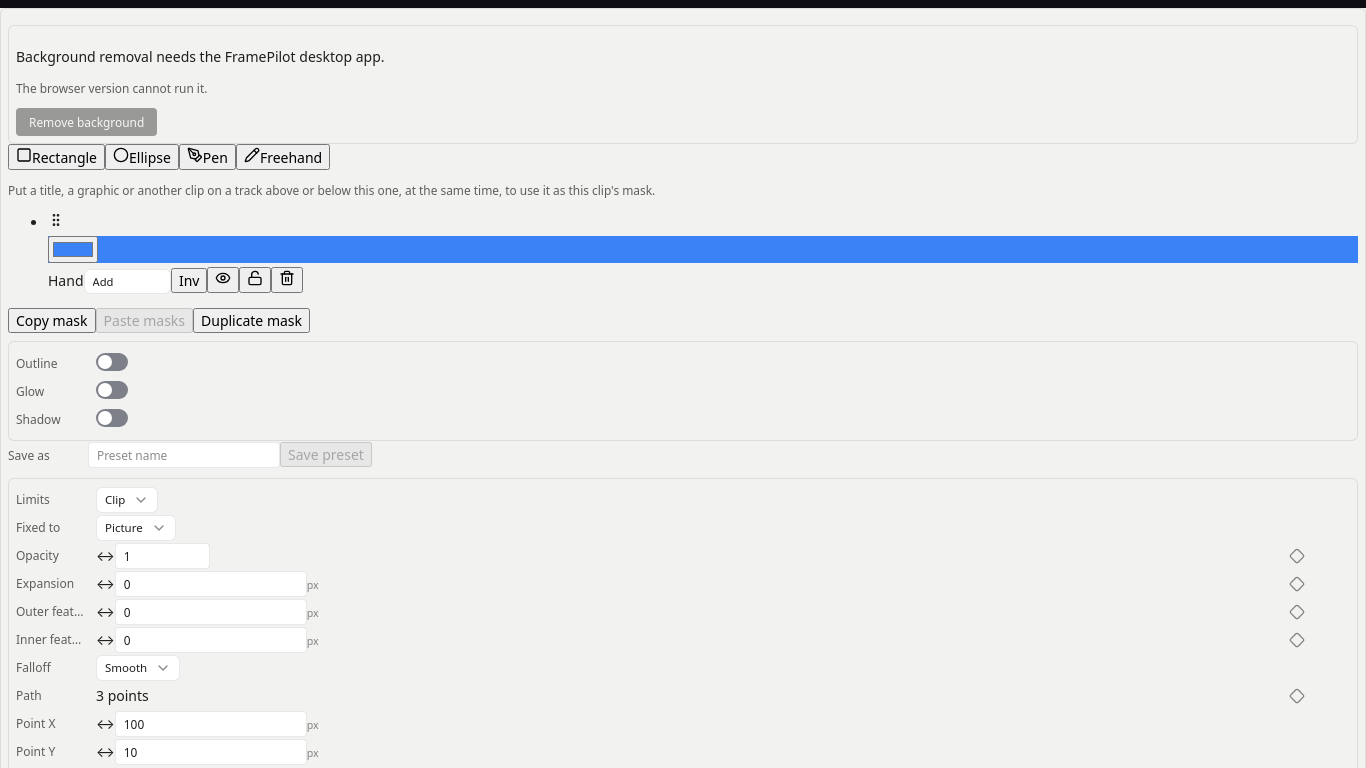
properties › types a selected path point position and shows the path keyframe row
The image size is (1366, 768).
Expected: the text "3 points" is shown, 96,686 -> 149,705
Step 1. Replace the text in the number field named "Hand point x" with "120.5" → x=211, y=724, box 115,711 -> 307,737
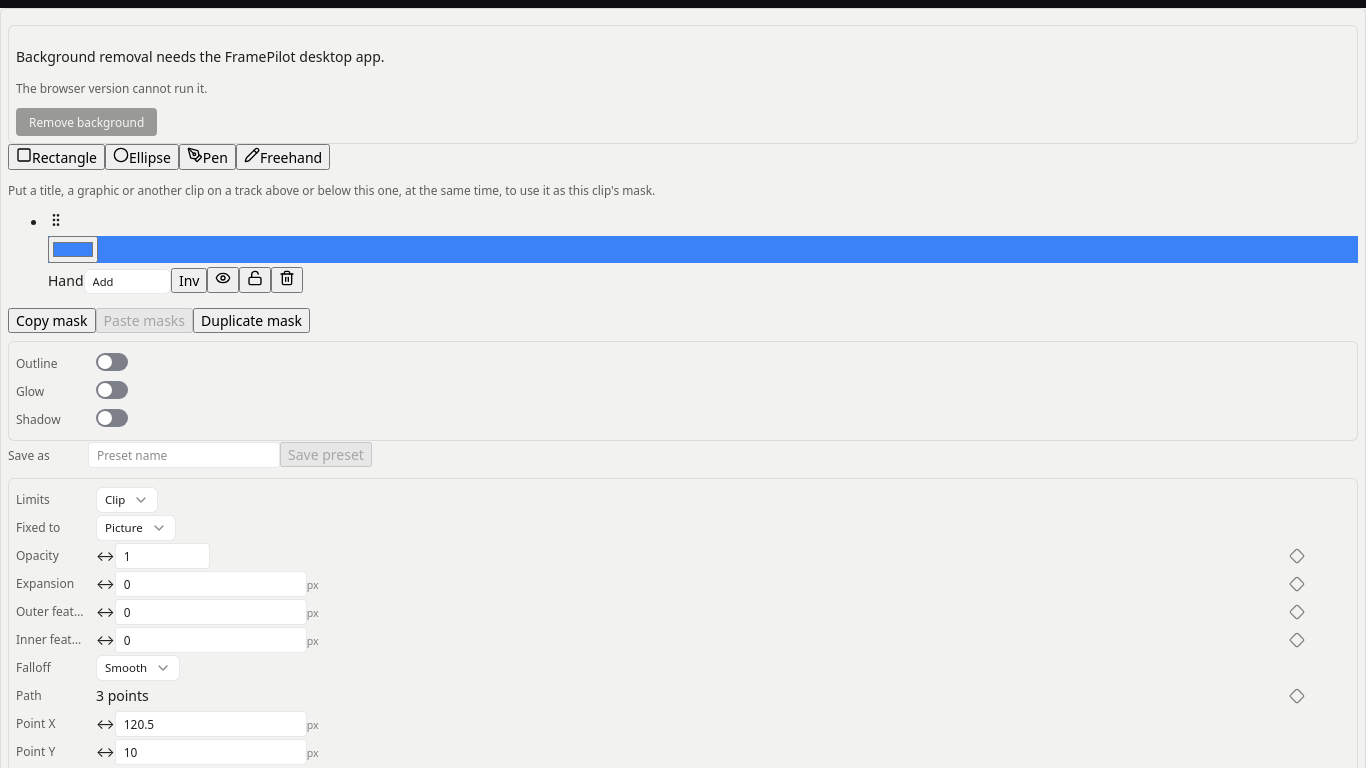
Step 2. Click the button named "Animate Hand path — adds a keyframe at the playhead" → x=1297, y=696, box 1285,684 -> 1309,708
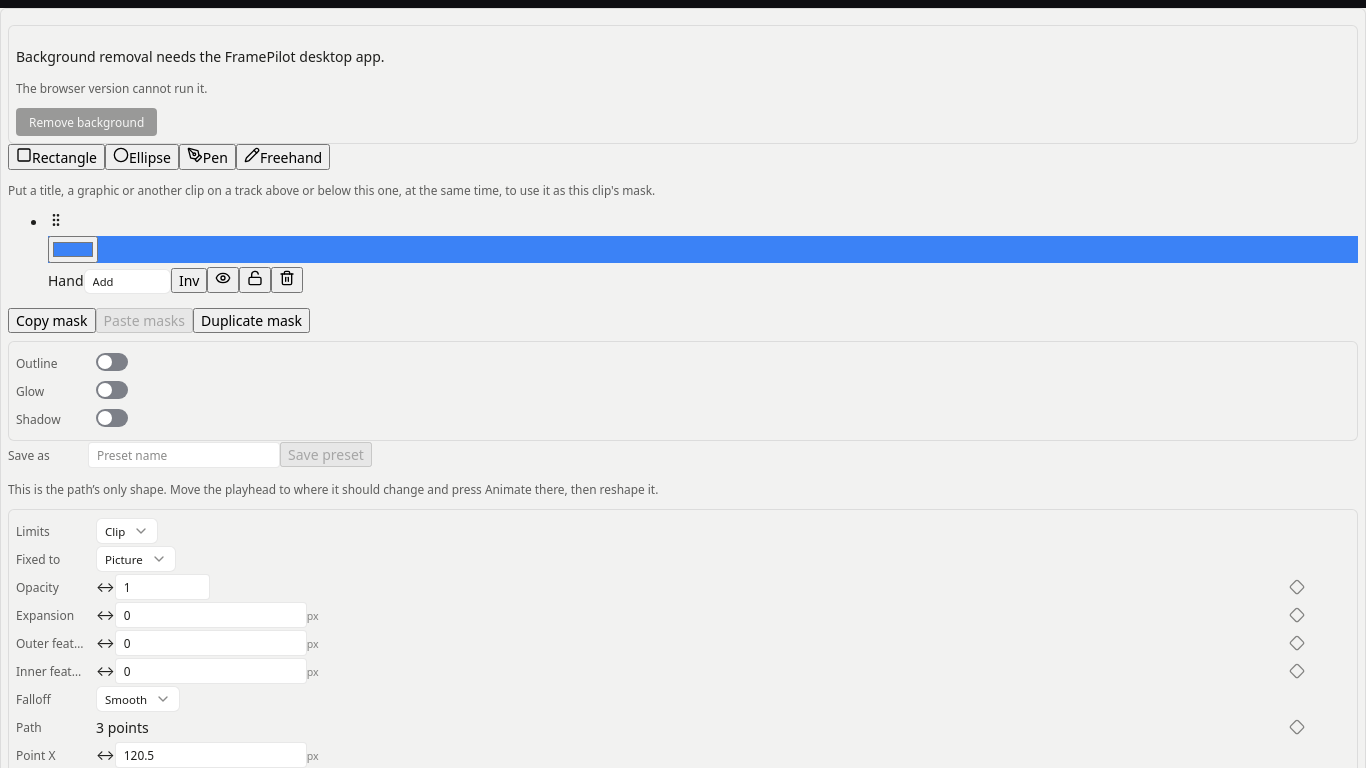
Result: the text "only shape" is shown at 8,481 -> 658,497
